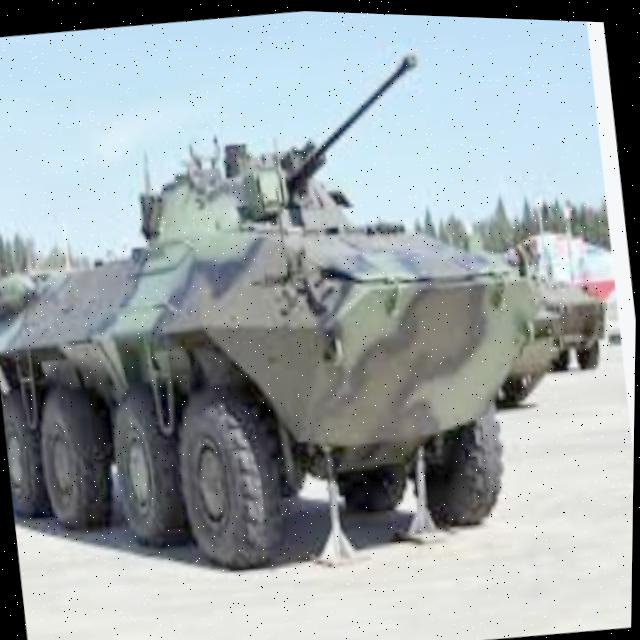MIL_APC: (0, 93, 563, 623)
